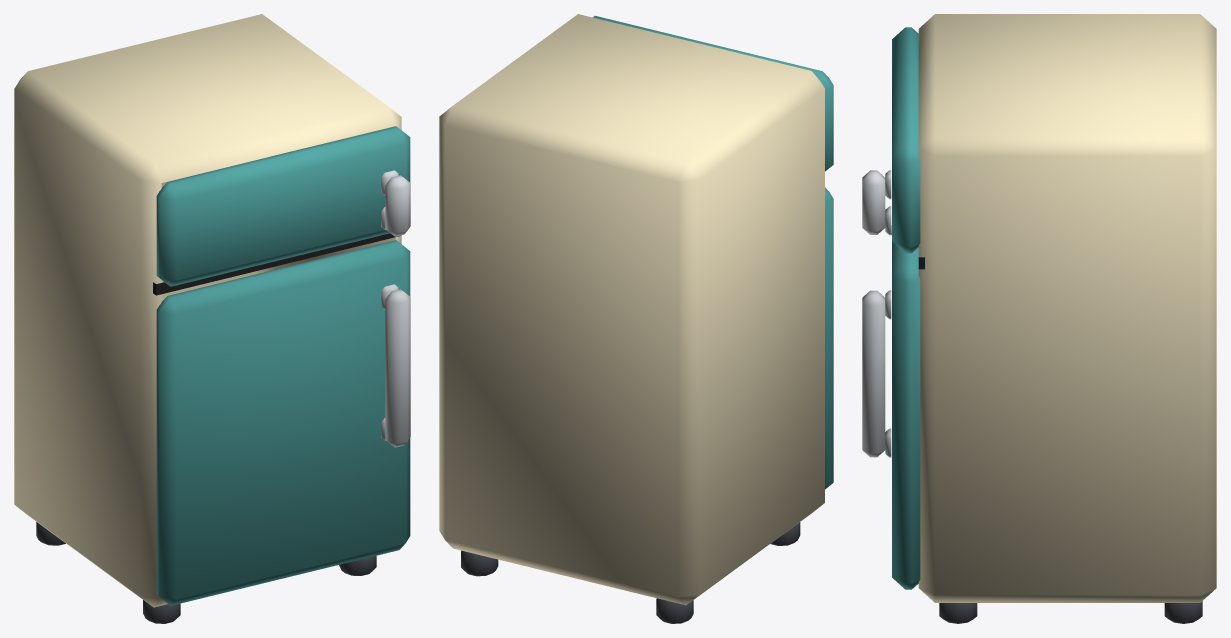
The model's file is SM_MiniFridge_01.glb.
3 views of the same model, side by side, from view 1: azimuth 30°, elevation 25°; view 2: azimuth 150°, elevation 25°; view 3: azimuth 270°, elevation 25° (orthographic). The views are drawn at different scales.
Parts seen in each view (by area): view 1: SM_MiniFridge_01; view 2: SM_MiniFridge_01; view 3: SM_MiniFridge_01.
Boxes of the visible parts, x1,y1,x2,y2 form: SM_MiniFridge_01: [14, 14, 410, 623]; SM_MiniFridge_01: [439, 14, 833, 623]; SM_MiniFridge_01: [862, 14, 1216, 623].
Bounding box in the file's own units: 0.48 × 0.82 × 0.535.
1 material, 1 textured.
